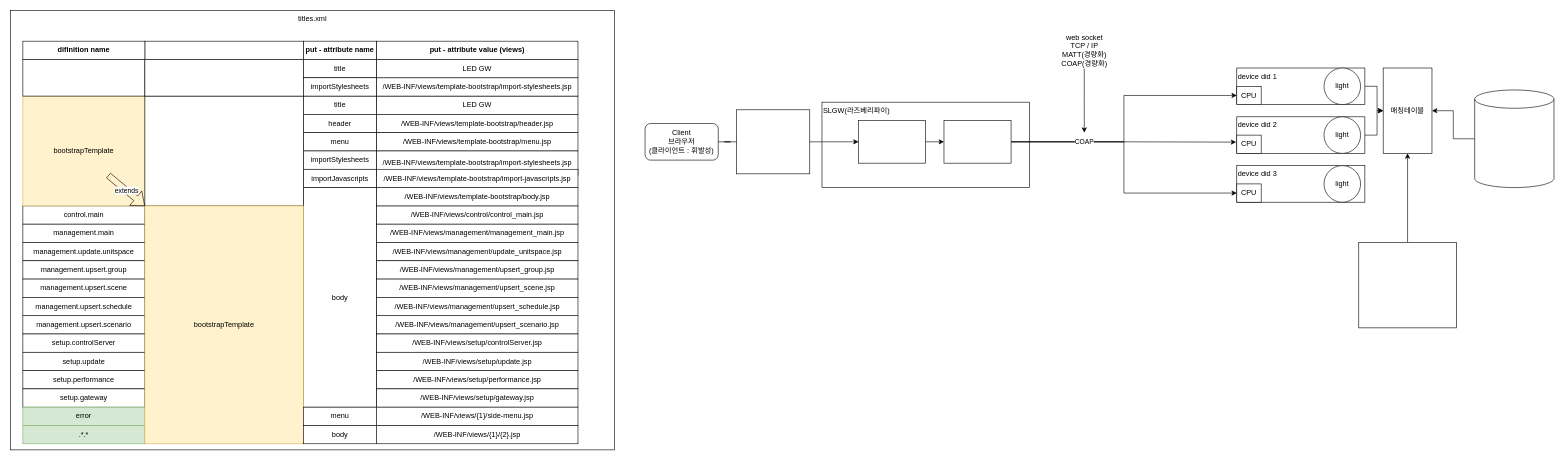
This 1565x461 diagram has some shape labels left out. The centre of each missing label's shape, as x and y in pixels:
"/WEB-INF/views/auth.jsp" goes at [223,77].
"/WEB-INF/views/template-bootstrap/template.jsp" goes at [223,150].
"auth.jsp" goes at [83,77].
"CLIENT JS URL + BODY(json)" goes at [773,141].
"COAP 서버" goes at [977,141].
"SCENE(장면) SCHEDULE(스케줄) USPACE(단위공간) GROUP(그룹)" goes at [1407,285].
"slg DB" goes at [1514,138].
"template" goes at [223,50].
"Web server (서버 : 비휘발성)" goes at [892,141].
